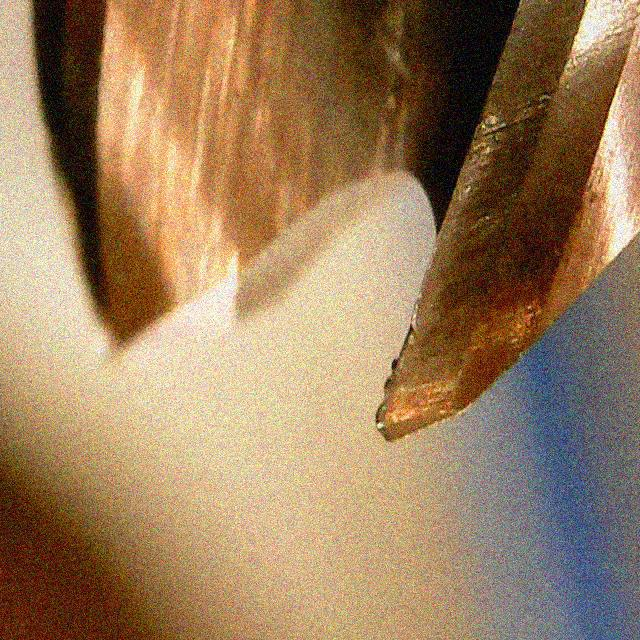Tool-wear-class-1: (334, 211, 560, 450)
